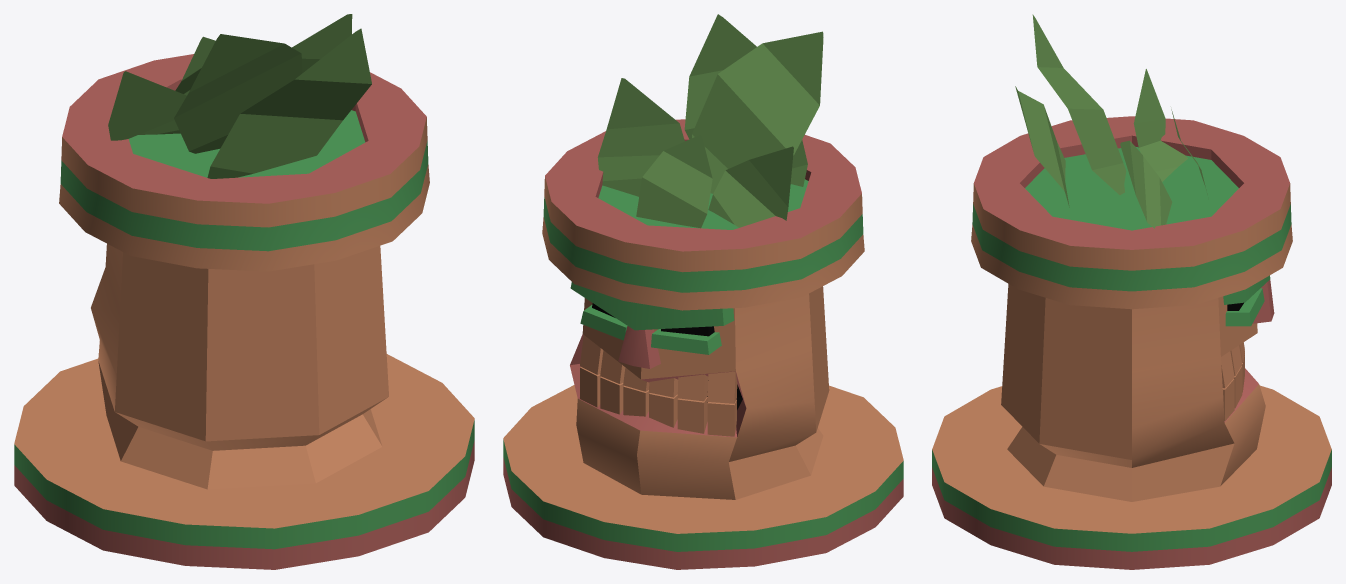
The model's file is GAMEJAMPUFFER - Tiki Head.fbx.
3 renders of one model, left to right at view 1: azimuth 30°, elevation 25°; view 2: azimuth 150°, elevation 25°; view 3: azimuth 270°, elevation 25°, orthographic. The views are drawn at different scales.
Visible parts, largest first — view 1: Tiki Head; view 2: Tiki Head; view 3: Tiki Head.
Boxes of the visible parts, <box> form: Tiki Head: <box>14,14,474,569</box>; Tiki Head: <box>503,14,903,569</box>; Tiki Head: <box>932,14,1331,569</box>.
Size of the model in its own units: 260 by 314 by 260.
